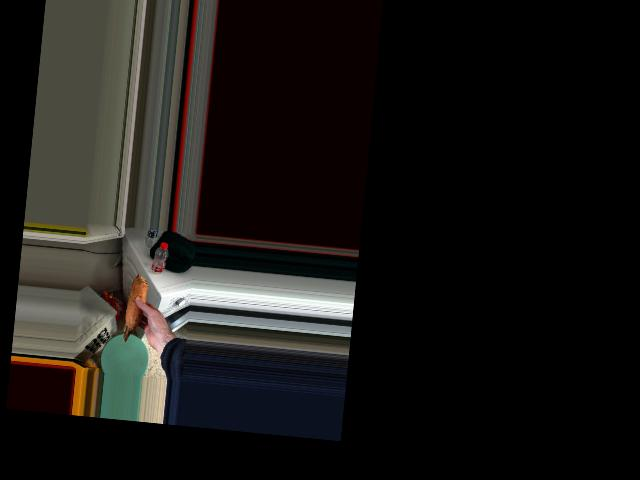sweet_potato: (122, 277, 147, 345)
